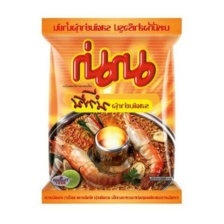snack: (32, 10, 196, 210)
